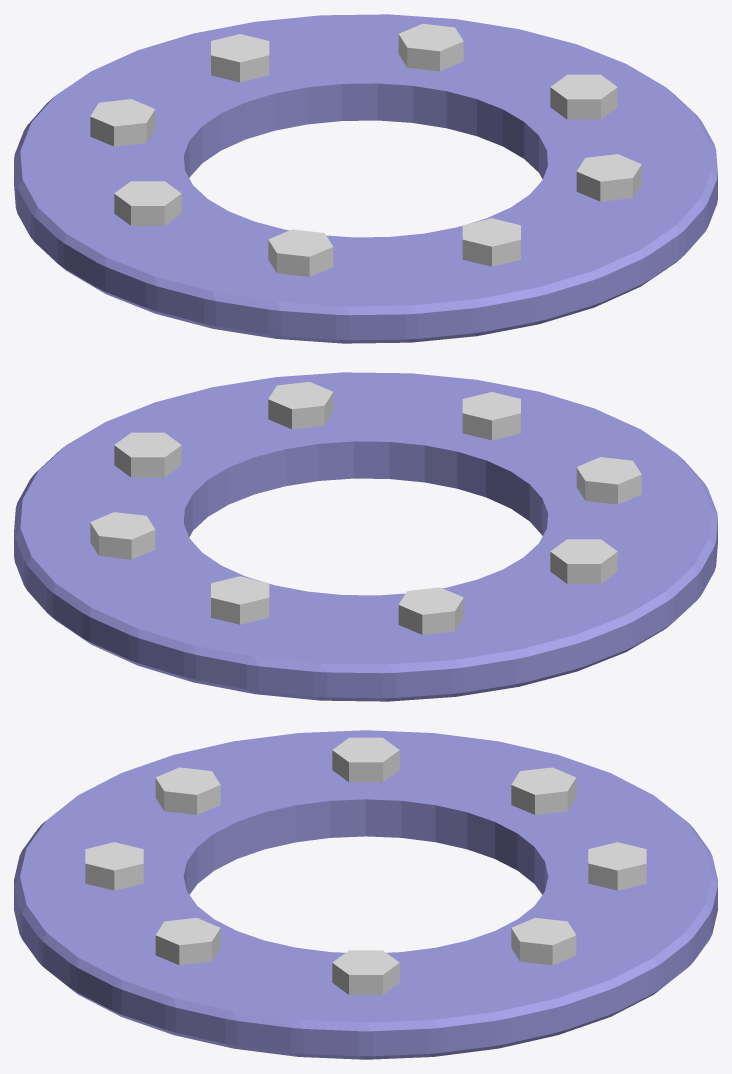
Rendered from FinalTubo.fbx.
The picture shows the model from 3 angles, top to bottom: view 1: azimuth 30°, elevation 25°; view 2: azimuth 150°, elevation 25°; view 3: azimuth 270°, elevation 25°; orthographic projection.
Parts seen in each view (by area): view 1: Final; view 2: Final; view 3: Final.
Boxes of the visible parts, bbox=[...] form: Final: bbox=[14, 14, 717, 343]; Final: bbox=[14, 372, 717, 701]; Final: bbox=[14, 730, 717, 1059].
Bounding box in the file's own units: 0.4534 × 0.0406 × 0.4534.
